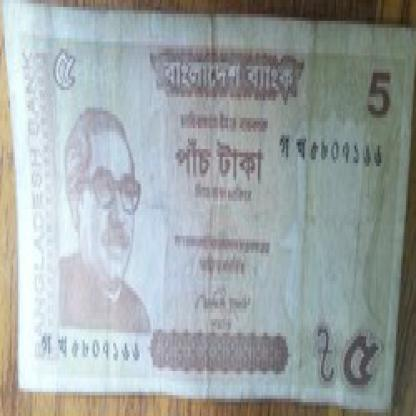Five Taka: (164, 132, 280, 187), (334, 315, 379, 406), (360, 42, 394, 128), (43, 42, 78, 100)
